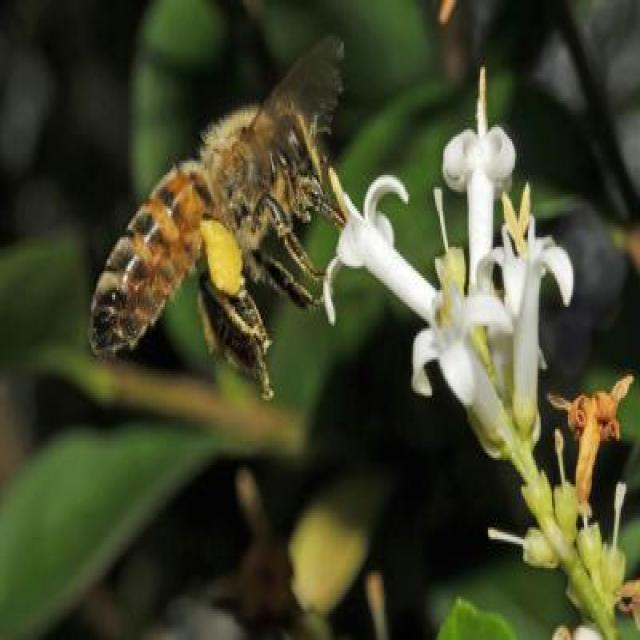antennae: (313, 128, 335, 188)
body: (89, 102, 334, 366)
insect: (85, 35, 350, 399)
legs: (253, 193, 323, 276), (249, 246, 332, 313), (277, 159, 343, 228)
mouthpart: (304, 173, 344, 223)
wings: (249, 39, 349, 134)
